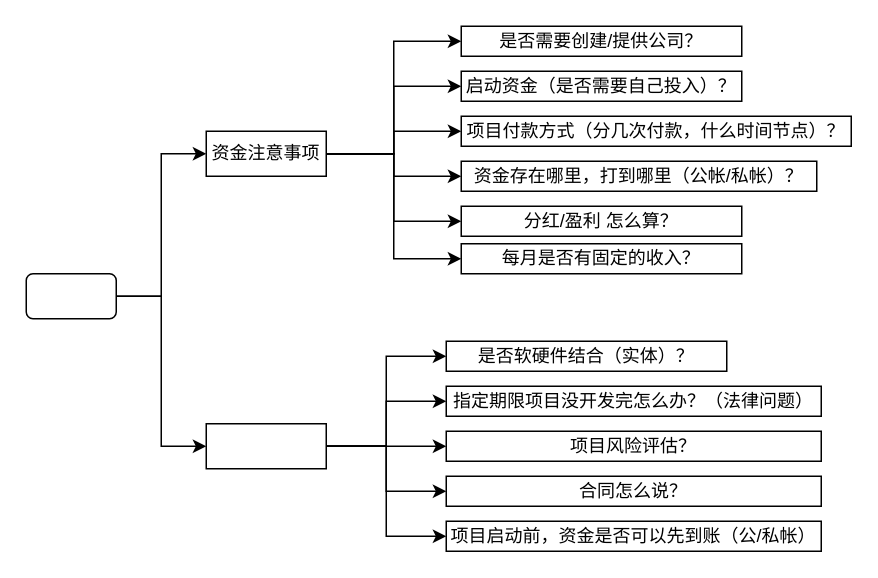
Image size: 878x578. Some labels were removed from this diagram. The shapes that lost their labels are listed below. From the top down, each one's box as (x1, y1, x2, y2) in pixels, then its label:
(25, 272, 116, 319): 合作
(205, 422, 326, 469): 项目注意事项
